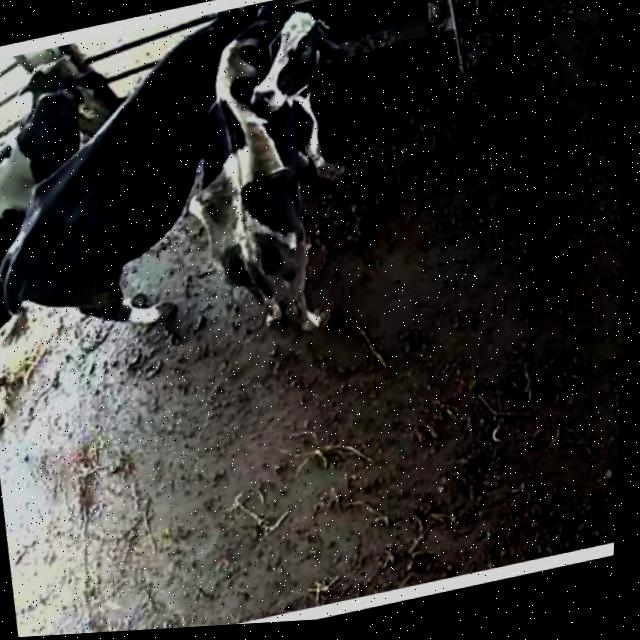drink: (136, 0, 284, 87)
